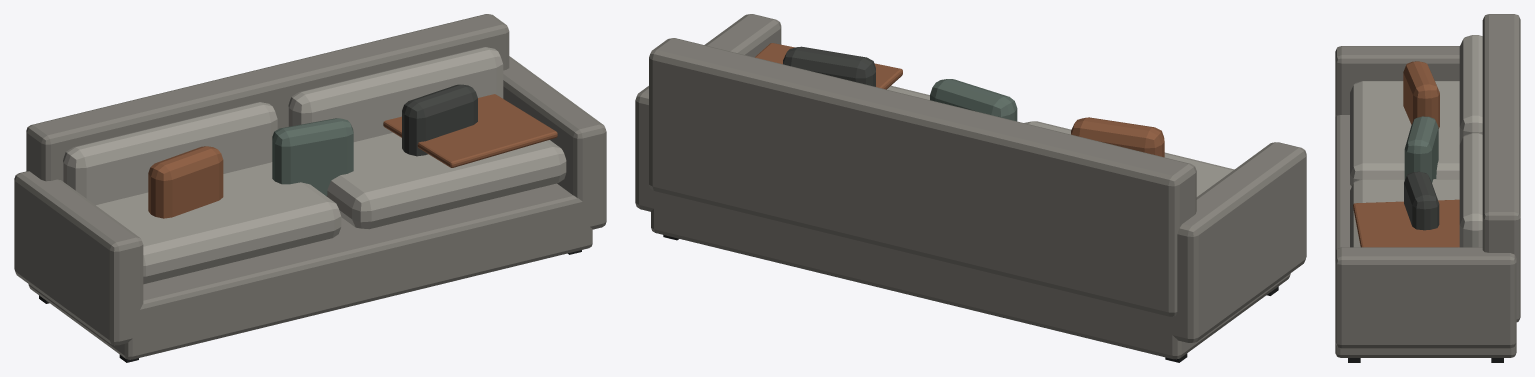
3 renders of one model, left to right at view 1: azimuth 30°, elevation 25°; view 2: azimuth 150°, elevation 25°; view 3: azimuth 270°, elevation 25°, orthographic. The views are drawn at different scales.
Visible parts, largest first — view 1: sofa; view 2: sofa; view 3: sofa.
Part boxes in pixels (x1=…): sofa: x1=14, y1=14, x2=606, y2=362; sofa: x1=635, y1=14, x2=1306, y2=362; sofa: x1=1335, y1=14, x2=1520, y2=362.
Size of the model in its own units: 2.42 by 0.79 by 0.88.
